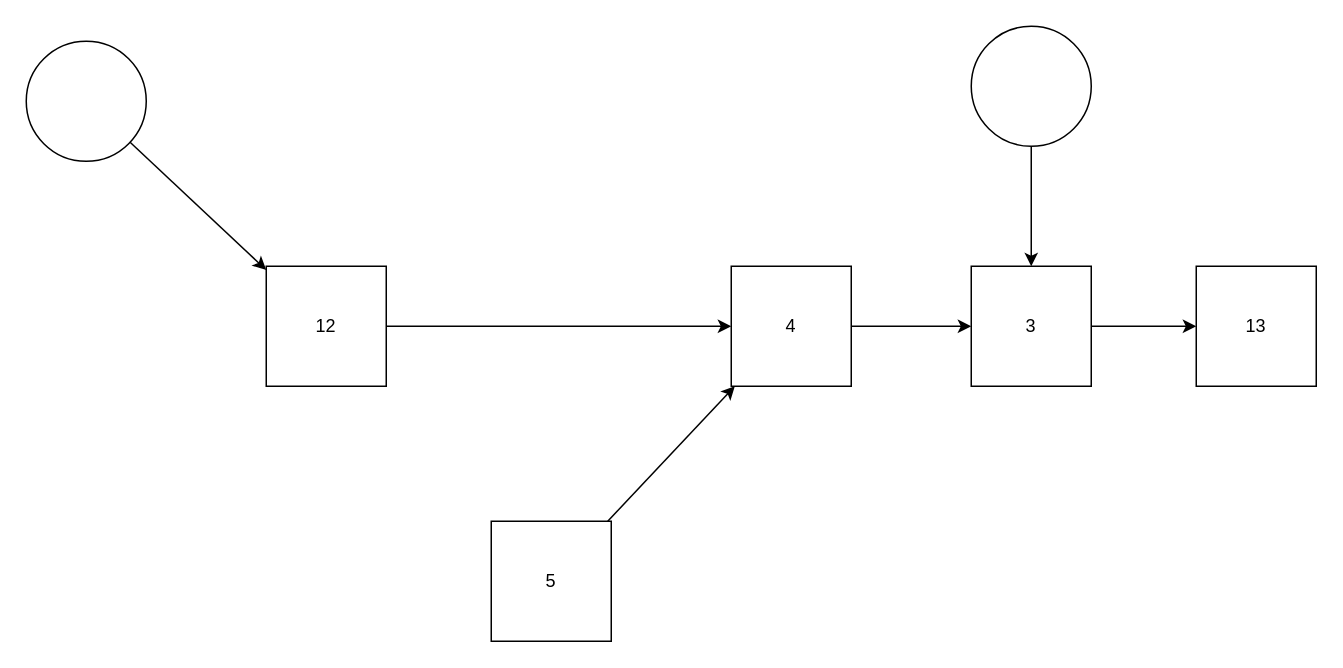
This 1343x668 diagram has some shape labels left out. Here are the shapes that lost their labels. From the top down, the box of each, then its label:
(25, 40, 146, 161): Head
(970, 25, 1091, 146): Tail
